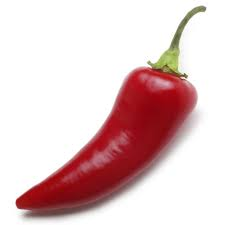Chilli: (10, 6, 210, 215)
